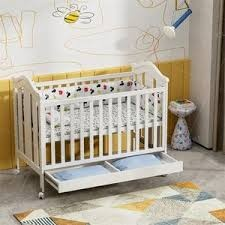crib: (14, 62, 182, 197)
